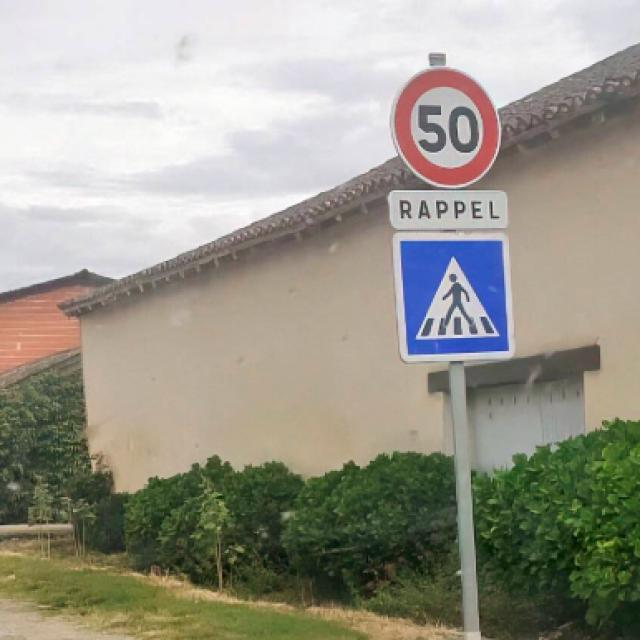speed_50: (392, 65, 505, 190)
